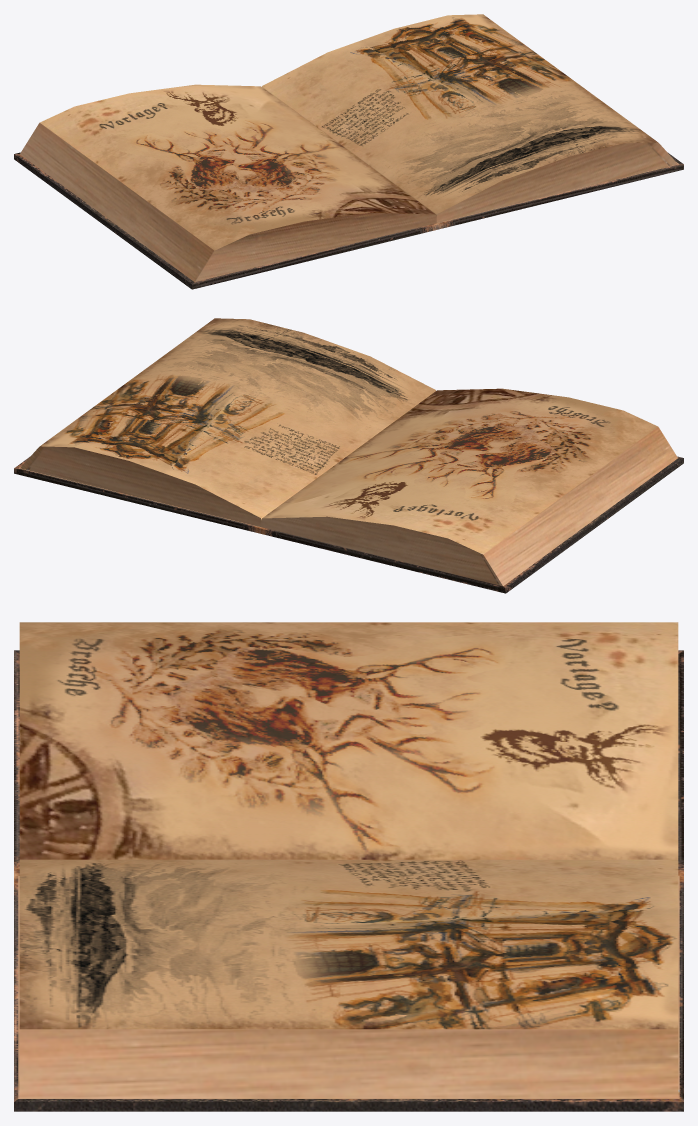
The model's file is skizzenbuch2.fbx.
3 renders of one model, top to bottom at view 1: azimuth 30°, elevation 25°; view 2: azimuth 150°, elevation 25°; view 3: azimuth 270°, elevation 25°, orthographic. The views are drawn at different scales.
Parts seen in each view (by area): view 1: open_book_4:polySurface1; view 2: open_book_4:polySurface1; view 3: open_book_4:polySurface1.
Boxes of the visible parts, x1,y1,x2,y2 form: open_book_4:polySurface1: (14,14,683,289); open_book_4:polySurface1: (14,318,683,593); open_book_4:polySurface1: (14,622,683,1111).
Bounding box in the file's own units: 24.52 × 1.88 × 15.37.
Materials: 1 (1 with a texture image).
